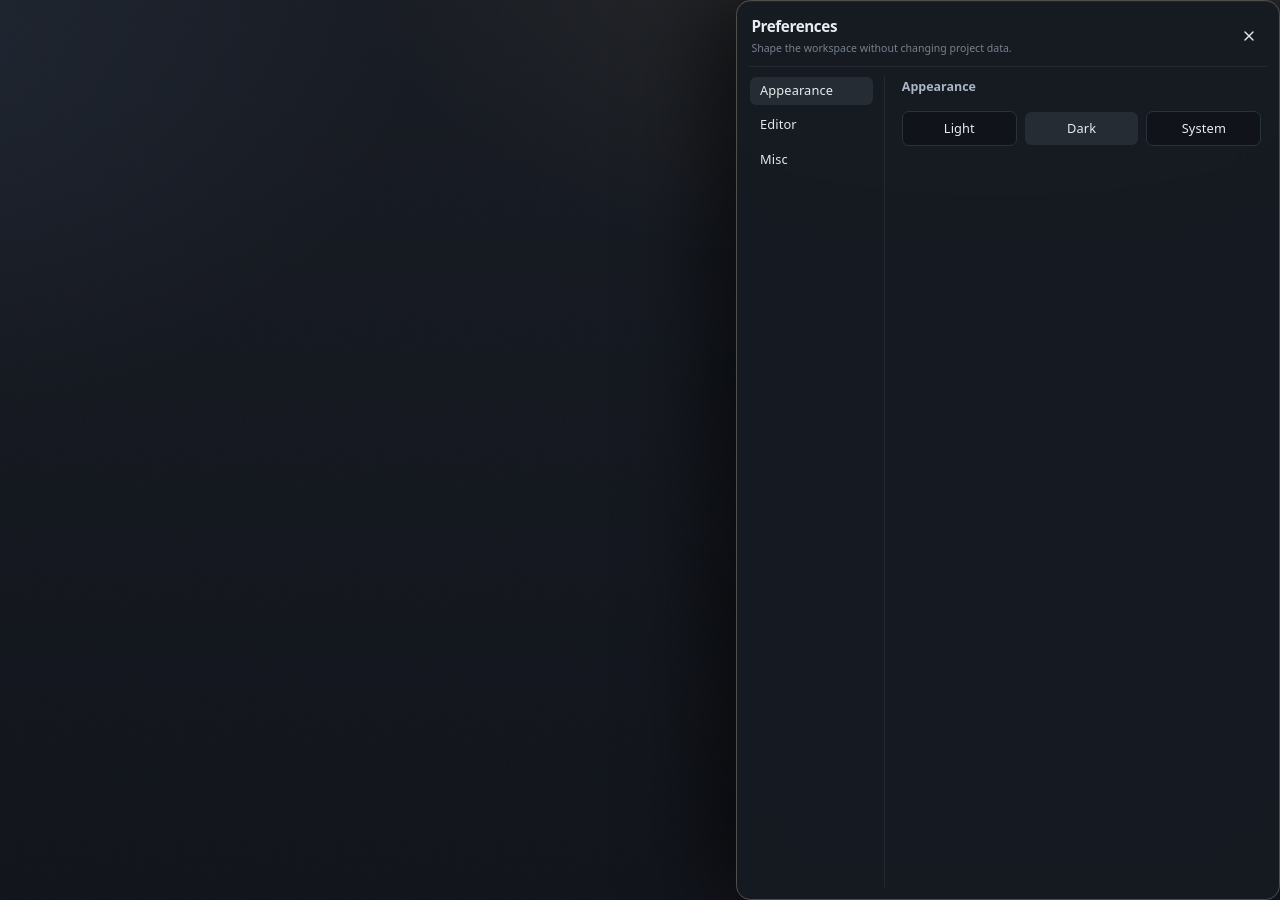
Test: ConfigDrawer › marks Editor controls for overflow-safe layout
Click the button "Editor": (811, 125) [749,110,874,140]
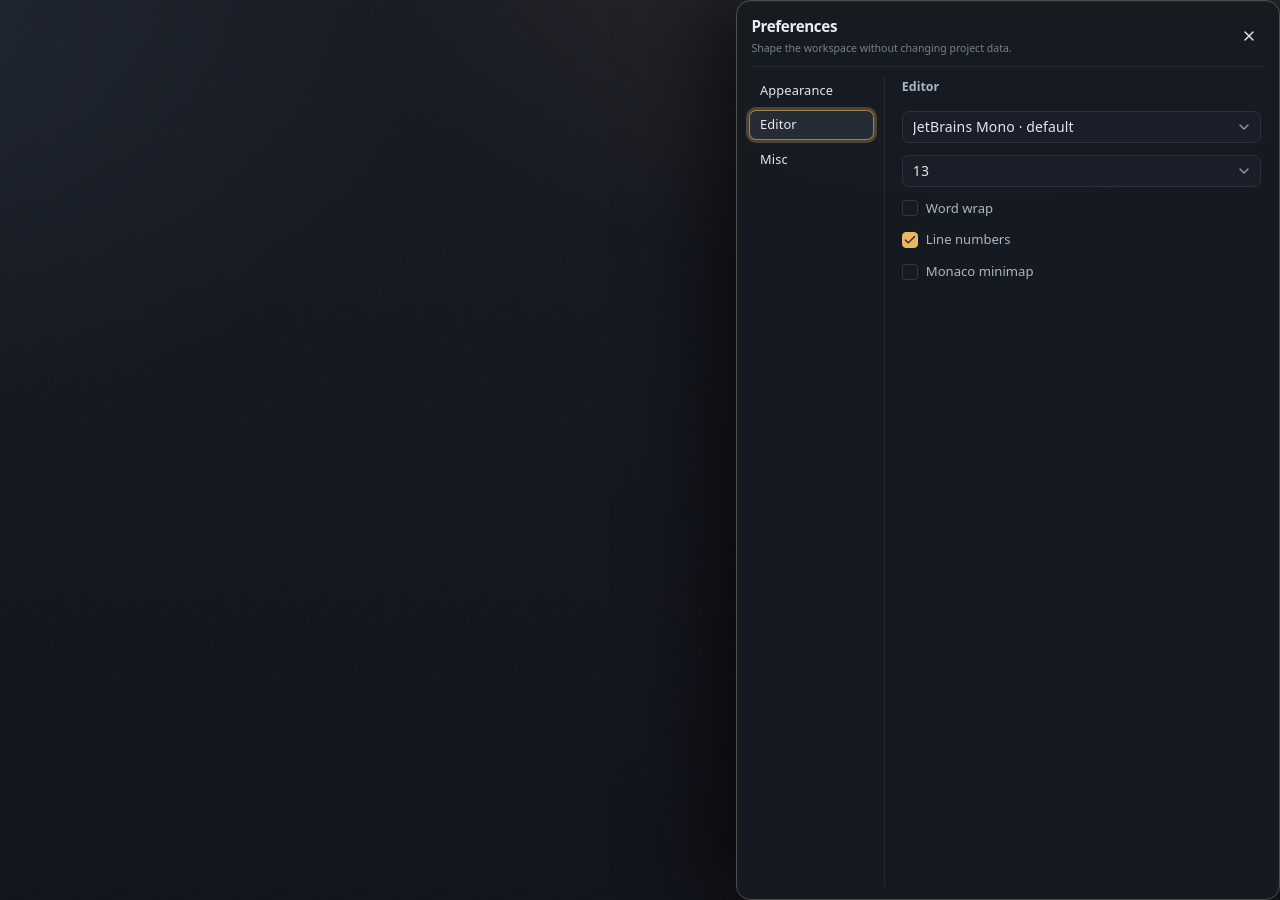
Check: the text "Monaco minimap" is shown, box [926,262,1034,282]
